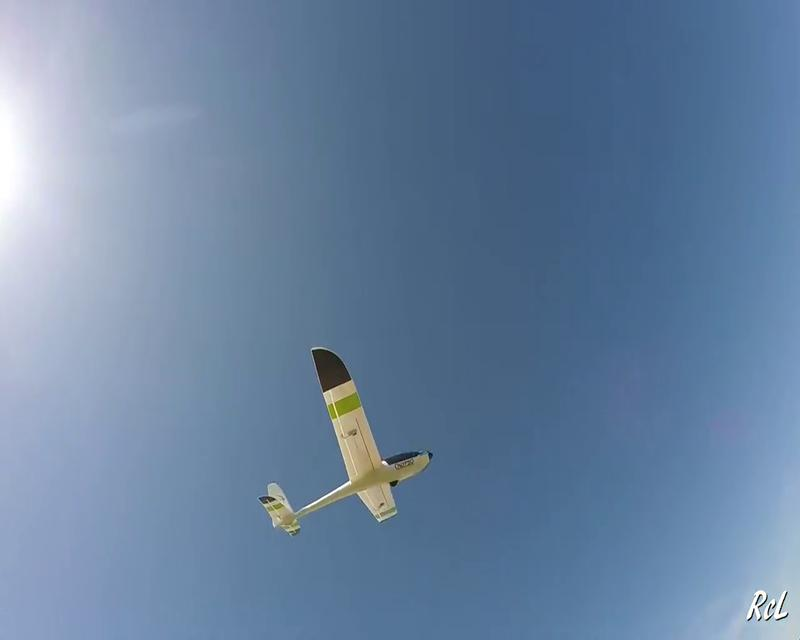UAV: (257, 345, 433, 537)
